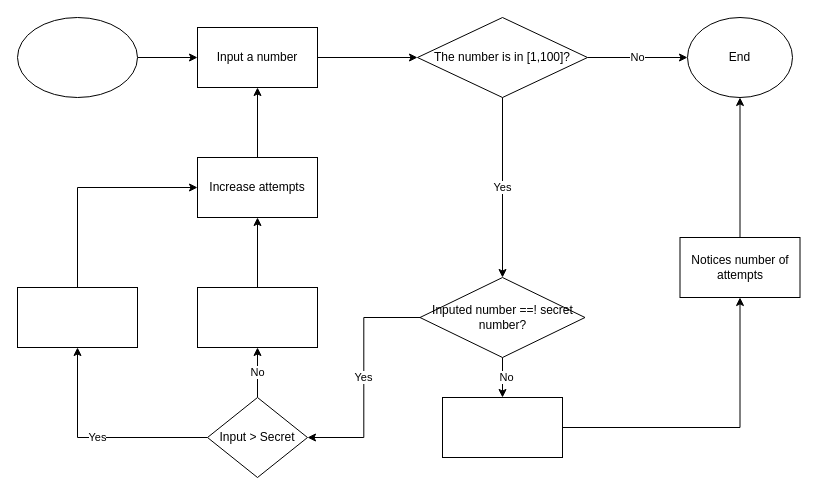
The diagram is 818 pixels wide and 495 high, and some of its shapes have lost their labels. The shapes that lost their labels are listed below. From the top down, each one's centre as x and y in pixels, then its label:
[77,57]: Start
[77,317]: "Too high..."
[257,317]: "Too low..."
[502,427]: "Congrats..."
